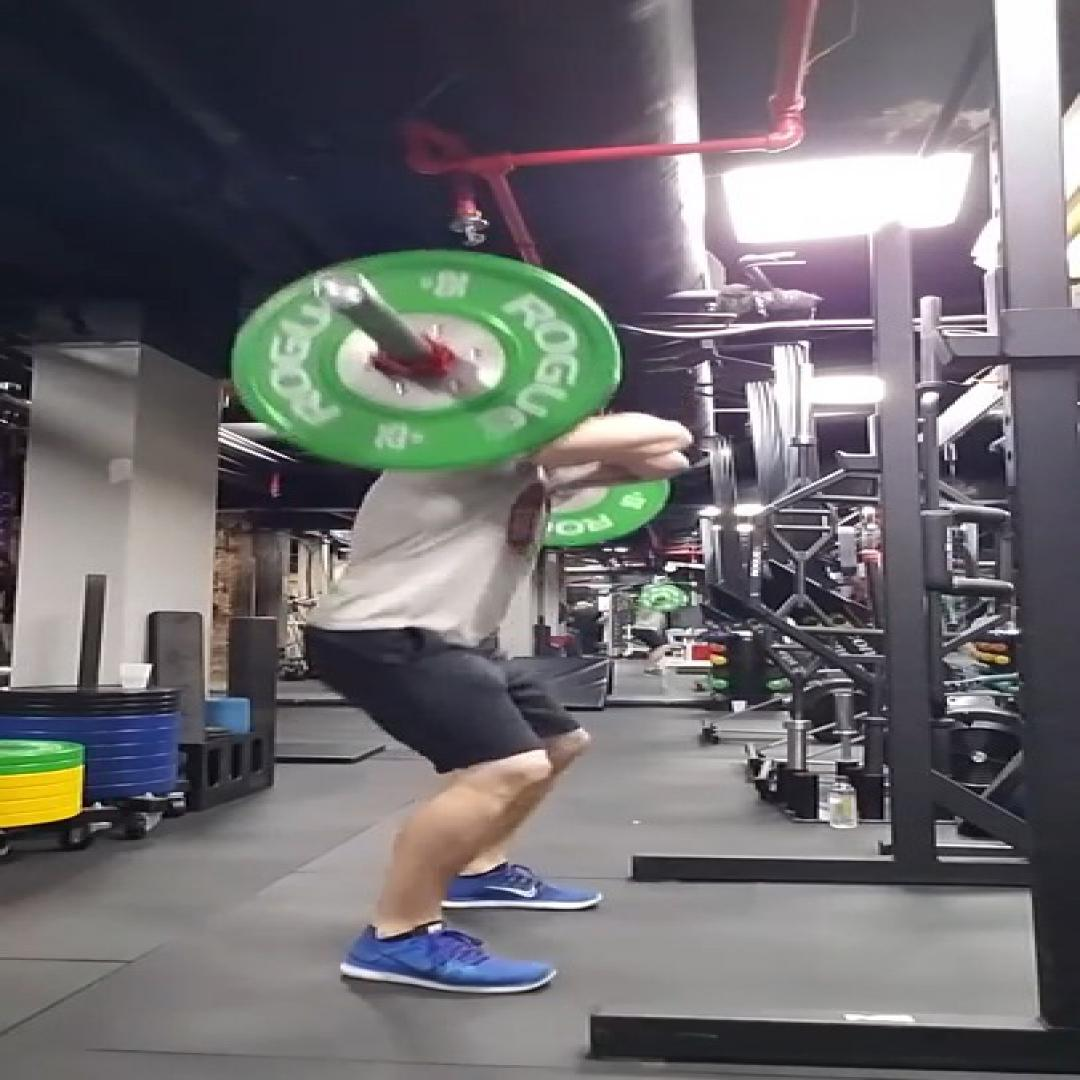Bar: (314, 270, 367, 308)
Barbell: (231, 250, 620, 470)
